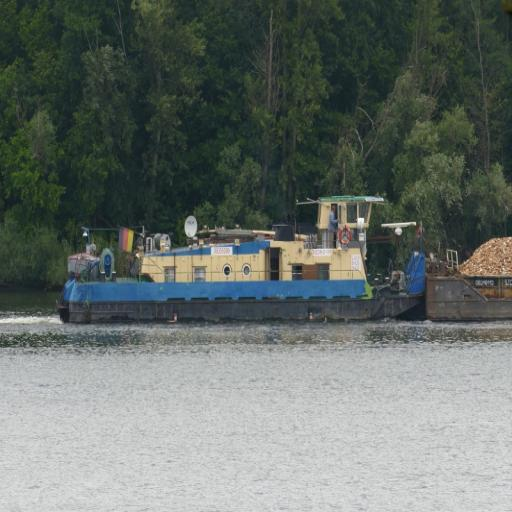tugboat: (57, 188, 436, 339)
